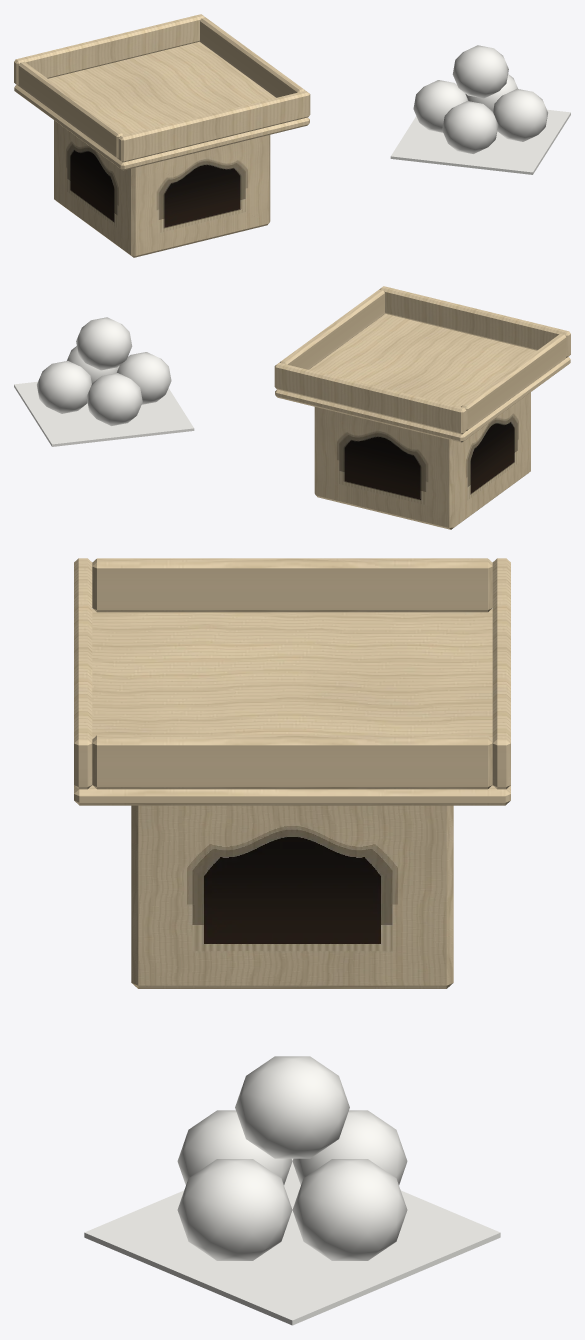
The model's file is sanbo.glb.
The picture shows the model from 3 angles, top to bottom: view 1: azimuth 30°, elevation 25°; view 2: azimuth 150°, elevation 25°; view 3: azimuth 270°, elevation 25°; orthographic projection. The views are drawn at different scales.
Parts seen in each view (by area): view 1: Sanbo, Dango; view 2: Sanbo, Dango; view 3: Sanbo, Dango.
Boxes of the visible parts, x1=… form: Sanbo: x1=14, y1=14, x2=310, y2=257; Dango: x1=390, y1=45, x2=570, y2=174; Sanbo: x1=274, y1=286, x2=570, y2=529; Dango: x1=14, y1=317, x2=194, y2=446; Sanbo: x1=74, y1=558, x2=510, y2=988; Dango: x1=84, y1=1056, x2=500, y2=1325.
Size of the model in its own units: 0.2528 by 0.0666 by 0.095.
5 materials, 2 textured.
